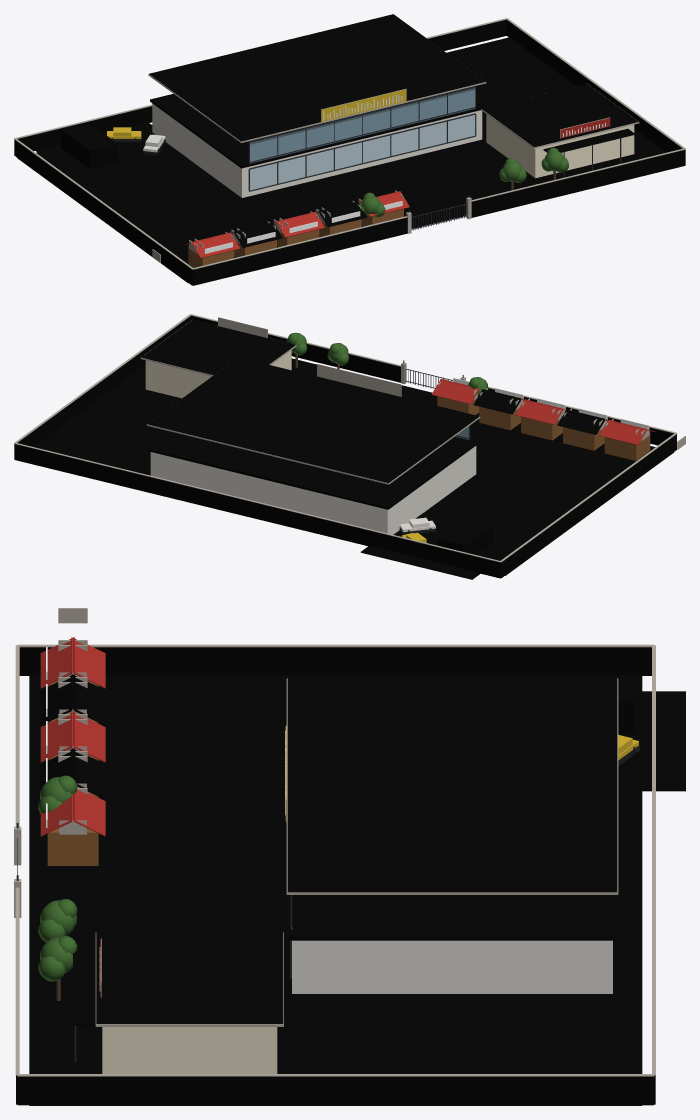
The model's file is commercial.glb.
3 renders of one model, top to bottom at view 1: azimuth 30°, elevation 25°; view 2: azimuth 150°, elevation 25°; view 3: azimuth 270°, elevation 25°, orthographic. The views are drawn at different scales.
Visible parts, largest first — view 1: district_pave, object 29, mall_g1, glass_sheet (×2), mall_slab, object 63, mall_glass, object 178, object 179, foodcourt, yard, object 176 (+18 smaller); view 2: object 29, district_pave, mall_g1, object 175, mall_slab, object 63, object 176, yard, object 177, foodcourt, object 179, delivery_van (+16 smaller); view 3: district_pave, object 29, object 177, mall_g1, object 63, object 176, mall_slab, foodcourt, yard, object 181, object 182, kiosk_4 (+15 smaller).
Part boxes in pixels (left/top/right/bottom): district_pave: left=17, top=37, right=666, bottom=283; object 29: left=149, top=14, right=485, bottom=141; mall_g1: left=152, top=103, right=482, bottom=197; glass_sheet (×2): left=250, top=88, right=475, bottom=190; mall_slab: left=150, top=89, right=484, bottom=168; object 63: left=482, top=83, right=638, bottom=147; mall_glass: left=249, top=90, right=475, bottom=163; object 178: left=193, top=217, right=407, bottom=285; object 179: left=471, top=150, right=685, bottom=217; foodcourt: left=486, top=114, right=634, bottom=178; yard: left=35, top=122, right=188, bottom=184; object 176: left=14, top=140, right=192, bottom=285; object 29: left=147, top=357, right=479, bottom=482; district_pave: left=33, top=358, right=674, bottom=575; mall_g1: left=150, top=446, right=476, bottom=534; object 175: left=14, top=444, right=500, bottom=578; mall_slab: left=148, top=432, right=478, bottom=509; object 63: left=141, top=320, right=295, bottom=375; object 176: left=500, top=434, right=676, bottom=578; yard: left=360, top=512, right=528, bottom=579; object 177: left=14, top=316, right=190, bottom=459; foodcourt: left=145, top=350, right=291, bottom=398; object 179: left=191, top=315, right=400, bottom=382; delivery_van: left=437, top=518, right=493, bottom=554; district_pave: left=29, top=675, right=642, bottom=1105; object 29: left=287, top=678, right=617, bottom=892; object 177: left=17, top=1076, right=653, bottom=1105; mall_g1: left=292, top=940, right=612, bottom=993; object 63: left=96, top=932, right=283, bottom=1023; object 176: left=19, top=647, right=651, bottom=675; mall_slab: left=289, top=895, right=615, bottom=940; foodcourt: left=102, top=1027, right=277, bottom=1073; yard: left=618, top=691, right=685, bottom=791; object 181: left=17, top=644, right=654, bottom=647; object 182: left=17, top=1074, right=654, bottom=1076; kiosk_4: left=47, top=828, right=98, bottom=865.
Bounding box in the file's own units: 72.8 × 9.65 × 46.05.
